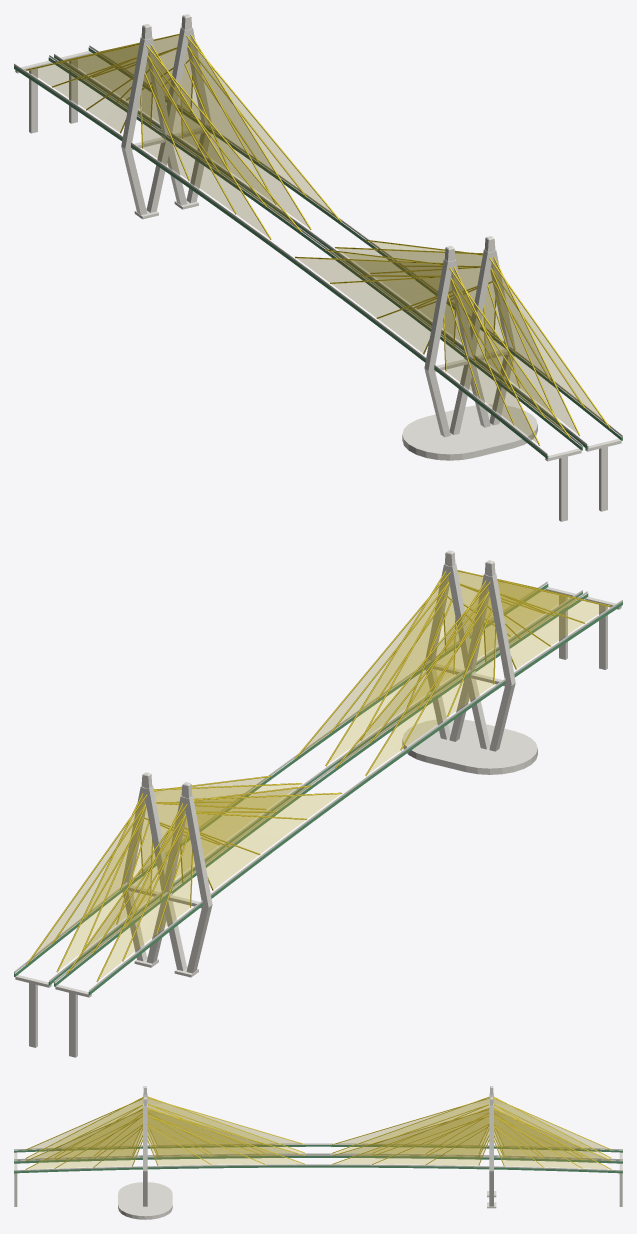
Rendered from hou-fred-hartman-bridge.glb.
3 renders of one model, top to bottom at view 1: azimuth 30°, elevation 25°; view 2: azimuth 150°, elevation 25°; view 3: azimuth 270°, elevation 25°, orthographic. The views are drawn at different scales.
Parts seen in each view (by area): view 1: Fred Hartman Bridge; view 2: Fred Hartman Bridge; view 3: Fred Hartman Bridge.
Boxes of the visible parts, x1,y1,x2,y2 form: Fred Hartman Bridge: (14,14,622,521); Fred Hartman Bridge: (14,550,622,1057); Fred Hartman Bridge: (14,1086,622,1219).
Bounding box in the file's own units: 89 × 134 × 670.
